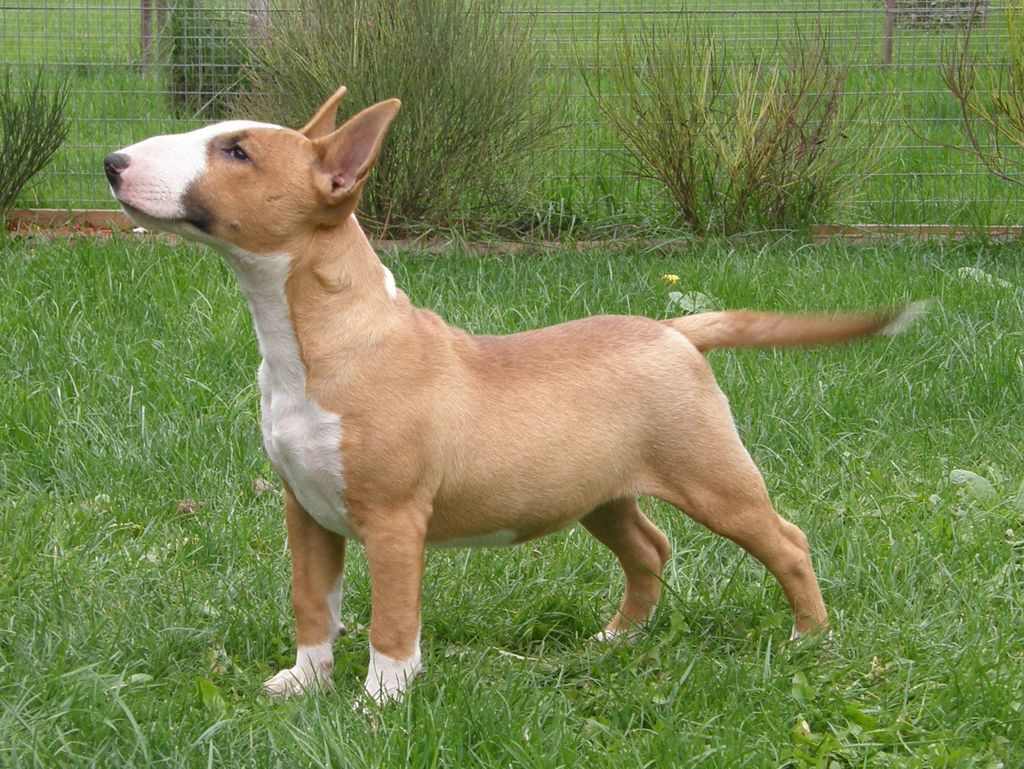bull_terrier: (100, 85, 931, 719)
